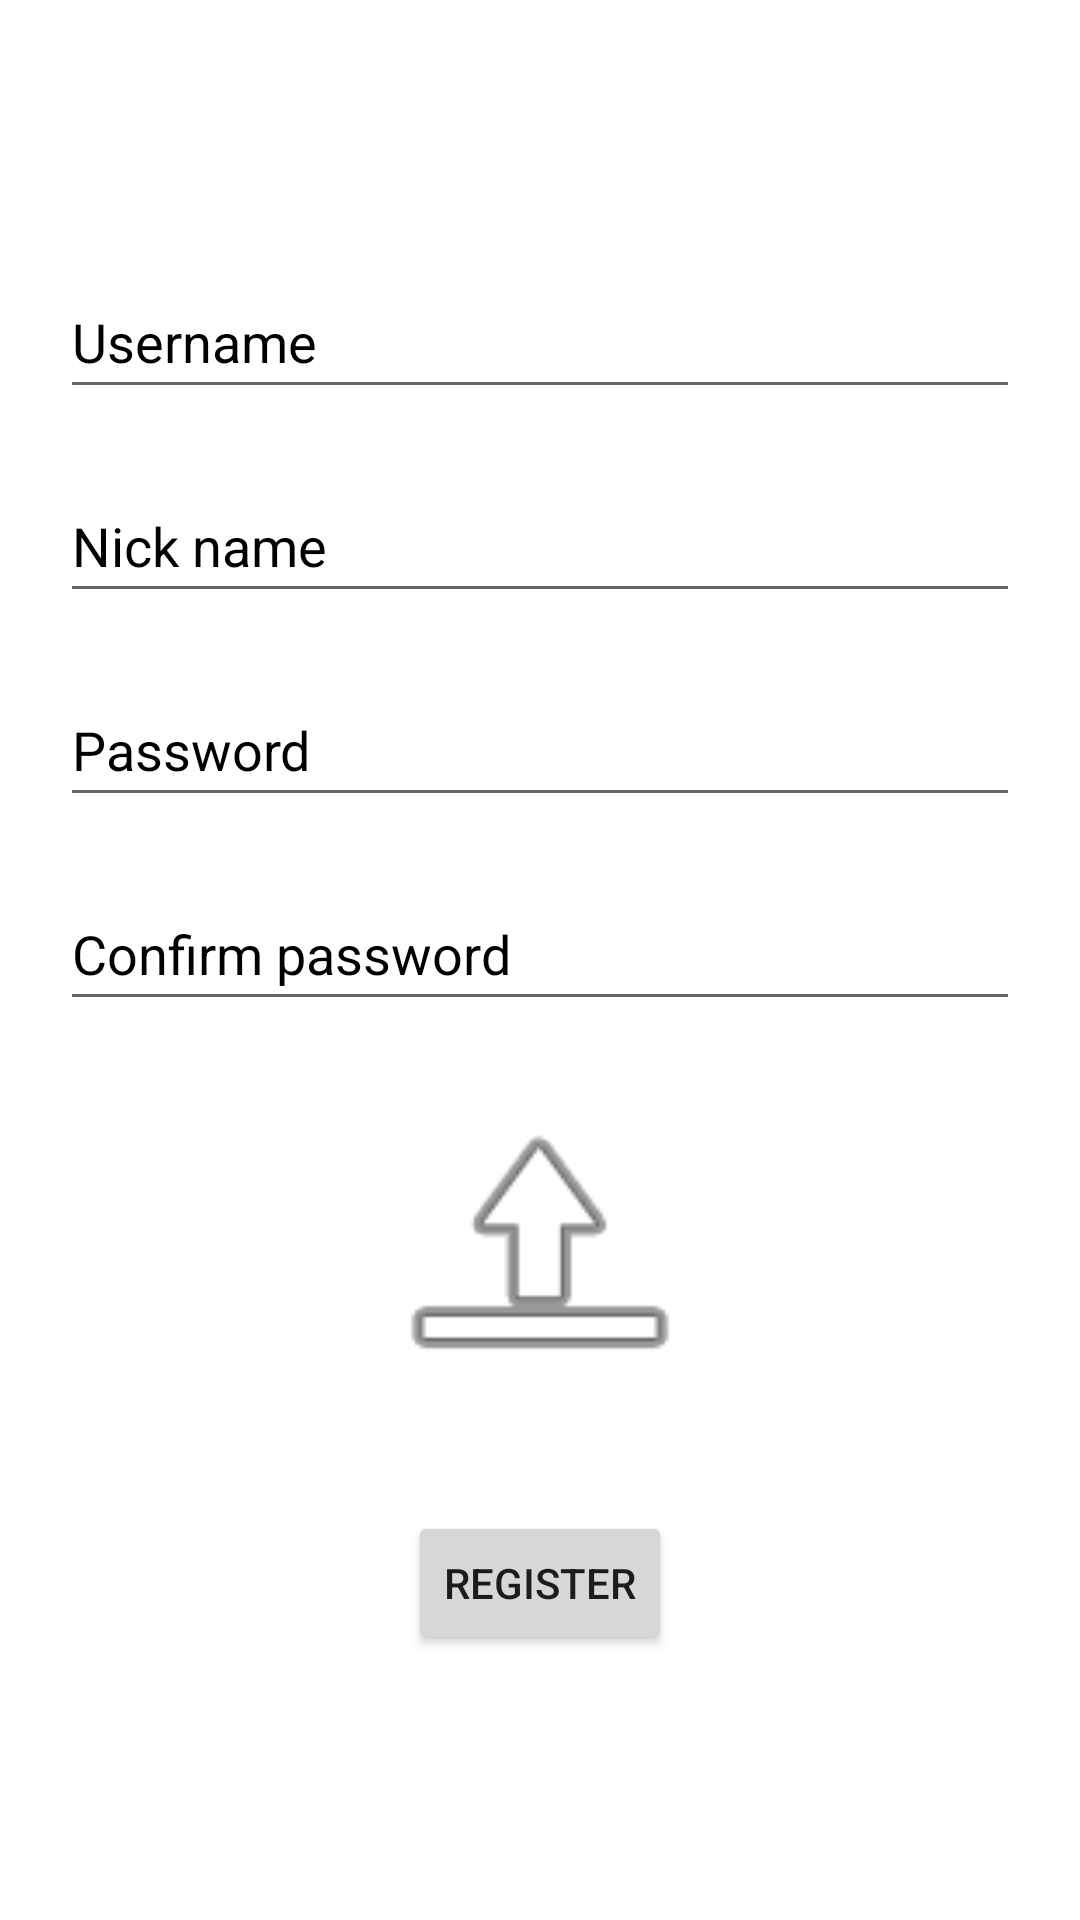

Screen size 1080×1920. Icon name, then its box in pixels as (x1, y1, x2, y2):
upload: (411, 1136, 669, 1349)
